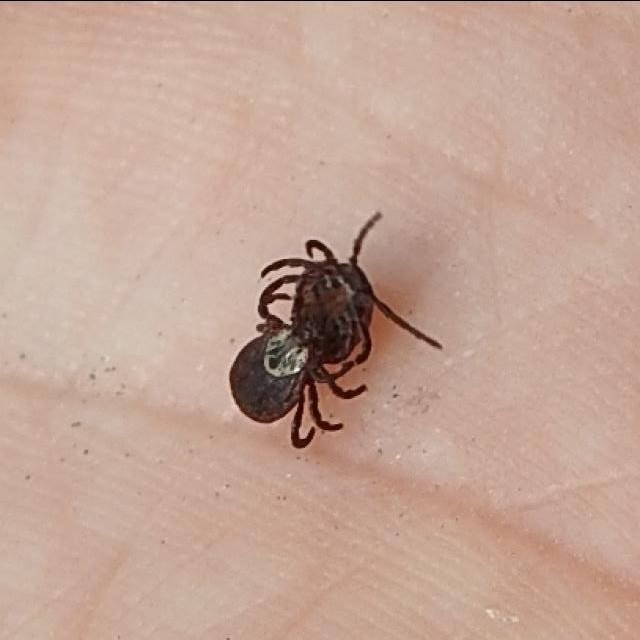Dermacentor Reticulatus-F: (230, 258, 366, 448)
